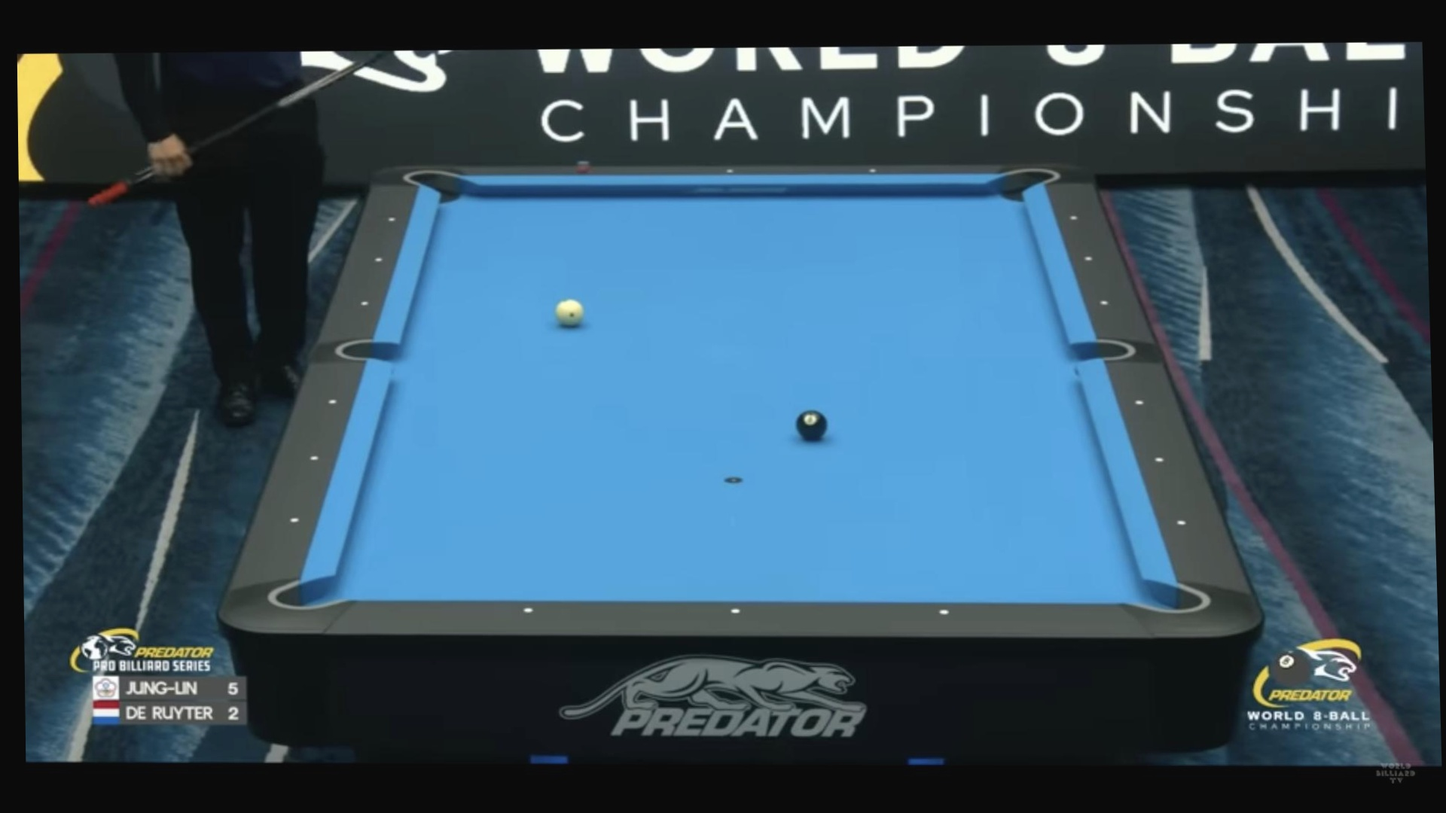Black: (1175, 517, 1188, 529), (1153, 453, 1166, 465), (1133, 397, 1146, 409), (522, 604, 534, 615), (730, 606, 742, 617), (938, 607, 950, 618), (289, 515, 301, 526), (309, 453, 321, 464), (327, 397, 338, 408), (1099, 298, 1110, 307), (1084, 255, 1095, 264), (725, 167, 736, 176), (868, 166, 879, 175), (1069, 213, 1079, 222), (360, 299, 369, 307), (374, 256, 383, 264), (387, 215, 396, 223)
Solid: (795, 410, 828, 440)
Stripe: (555, 298, 584, 327)
